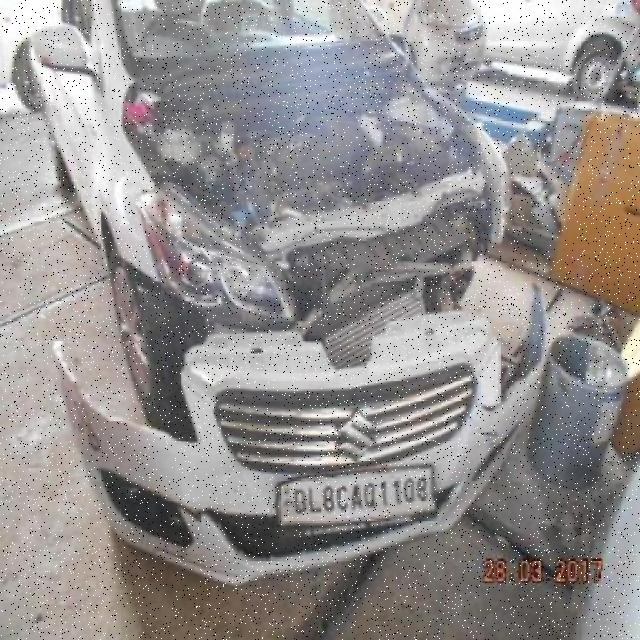damage: (120, 70, 499, 375)
